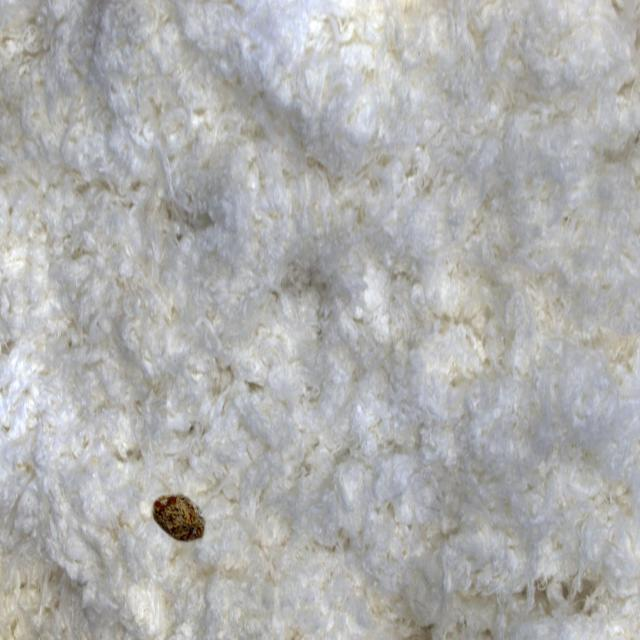dust: (136, 447, 238, 604)
